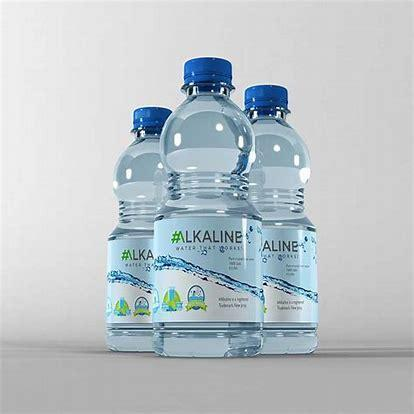bottle: (152, 55, 264, 359), (243, 83, 328, 357), (100, 105, 177, 348)
